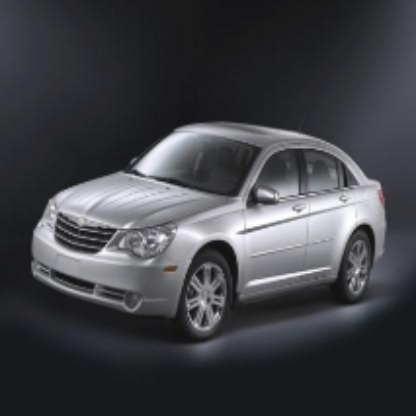Vehicle: (32, 122, 387, 341)
